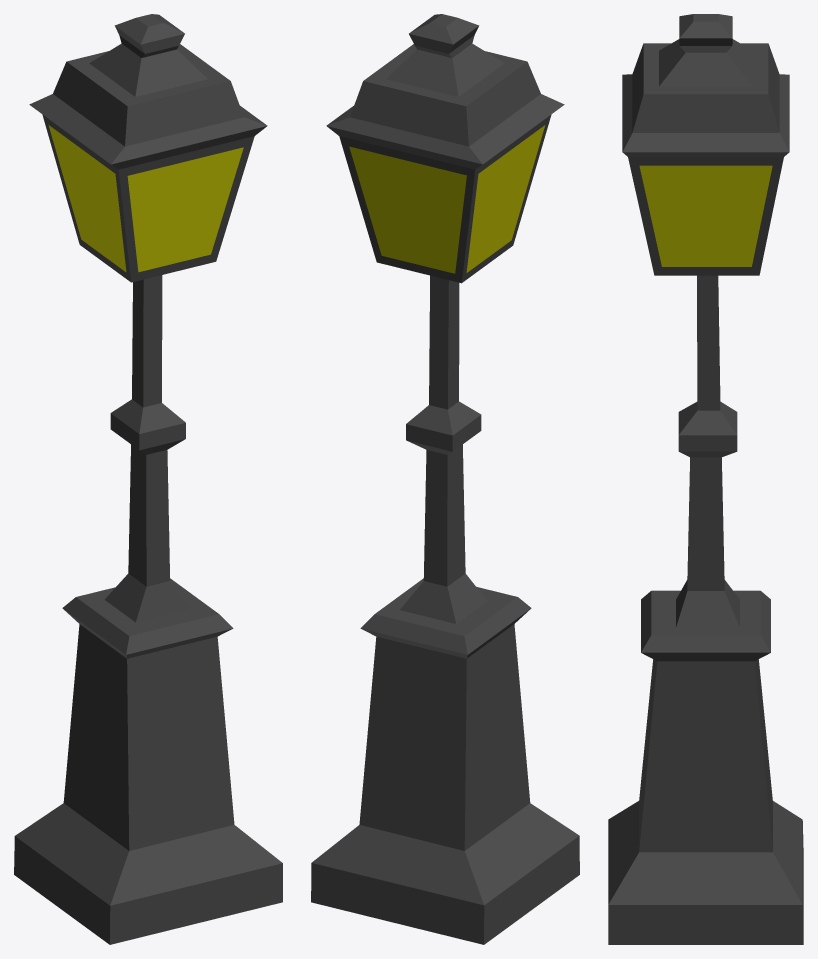
Rendered from lamppost.fbx.
3 views of the same model, side by side, from view 1: azimuth 30°, elevation 25°; view 2: azimuth 150°, elevation 25°; view 3: azimuth 270°, elevation 25° (orthographic).
Visible parts, largest first — view 1: Lamppost; view 2: Lamppost; view 3: Lamppost.
Part boxes in pixels (bbox=[...]): Lamppost: bbox=[14, 14, 282, 944]; Lamppost: bbox=[311, 14, 579, 944]; Lamppost: bbox=[608, 14, 803, 944].
Size of the model in its own units: 198 by 950 by 190.
